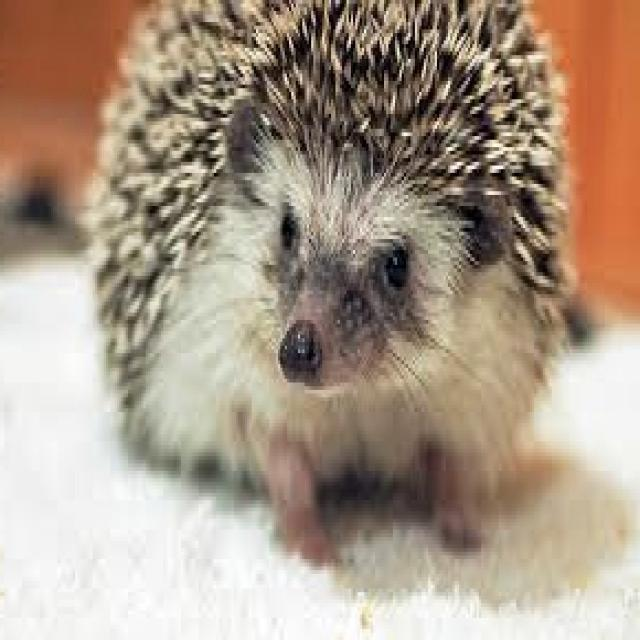hedgehog: (86, 0, 574, 559)
